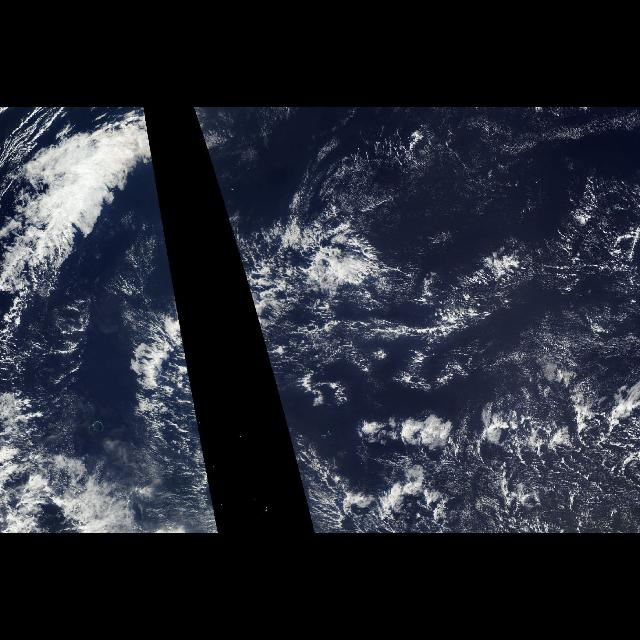Fish: (220, 197, 638, 429), (86, 196, 204, 434)
Gravel: (306, 386, 640, 534)
Sugar: (326, 109, 640, 239)
